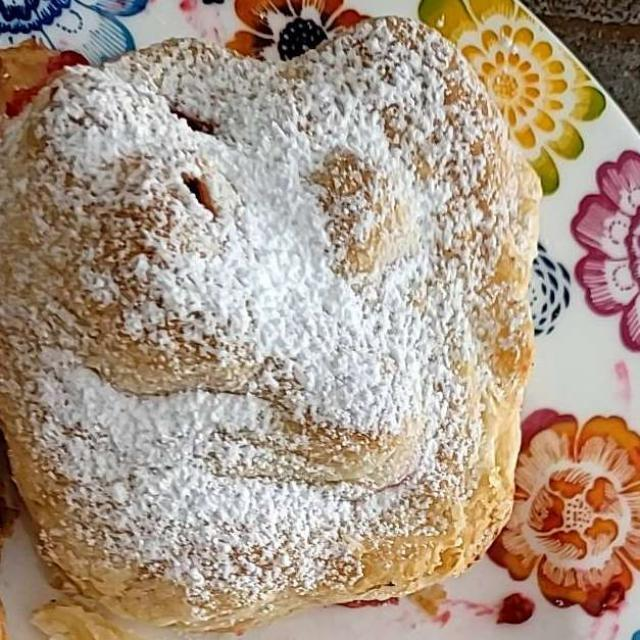pastry: (27, 21, 534, 630)
